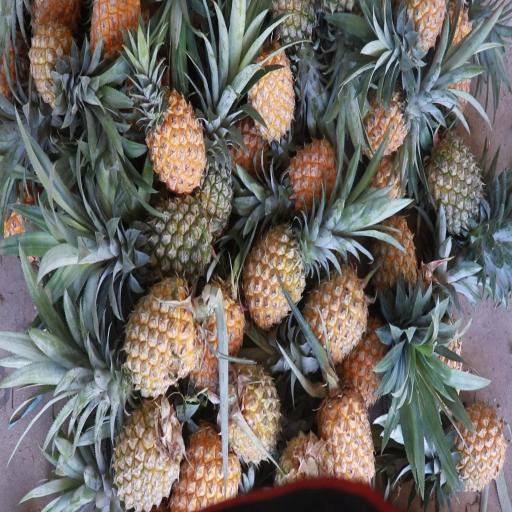Pineapple - v8 v1: (120, 263, 198, 395), (114, 387, 187, 512), (301, 261, 375, 375), (244, 215, 314, 326), (168, 415, 244, 512), (144, 85, 208, 200), (218, 356, 282, 470), (187, 269, 247, 388), (318, 380, 379, 496), (244, 28, 296, 150), (22, 15, 81, 111), (276, 121, 341, 208), (368, 212, 426, 305), (362, 70, 415, 168), (450, 402, 504, 496), (86, 0, 146, 83)
